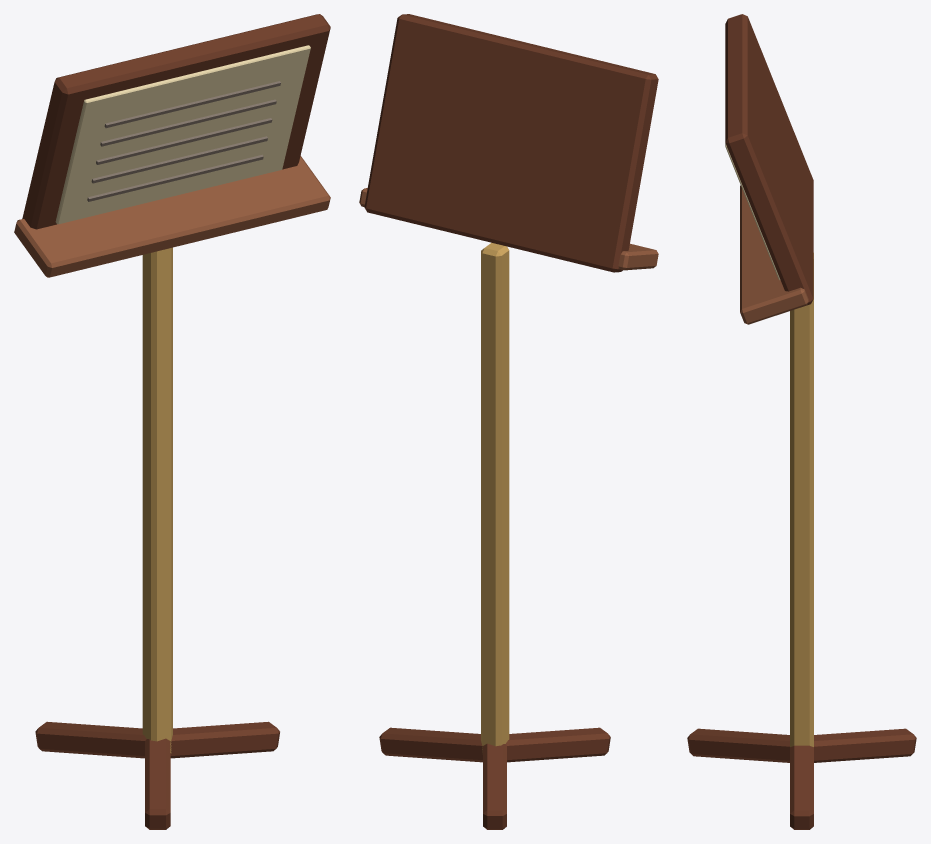
File: music_stand.glb
3 views of the same model, side by side, from view 1: azimuth 30°, elevation 25°; view 2: azimuth 150°, elevation 25°; view 3: azimuth 270°, elevation 25° (orthographic). The views are drawn at different scales.
Visible parts, largest first — view 1: Score, Rest, Stem, Back, Foot_001, Foot, Foot_002, Staff_003, Staff_004, Staff, Staff_001, Staff_002; view 2: Back, Stem, Foot_002, Foot, Foot_001, Rest; view 3: Back, Stem, Rest, Foot_002, Foot_001, Foot.
Boxes of the visible parts, left/top/right/bottom form: Score: left=55, top=45, right=310, bottom=224; Rest: left=14, top=156, right=330, bottom=277; Stem: left=142, top=247, right=172, bottom=753; Back: left=22, top=14, right=330, bottom=229; Foot_001: left=35, top=721, right=146, bottom=758; Foot: left=170, top=721, right=279, bottom=758; Foot_002: left=145, top=738, right=170, bottom=829; Staff_003: left=100, top=99, right=276, bottom=146; Staff_004: left=104, top=81, right=280, bottom=128; Staff: left=87, top=154, right=263, bottom=201; Staff_001: left=91, top=136, right=267, bottom=183; Staff_002: left=96, top=118, right=272, bottom=164; Back: left=364, top=14, right=658, bottom=272; Stem: left=481, top=242, right=509, bottom=752; Foot_002: left=506, top=727, right=610, bottom=762; Foot: left=379, top=727, right=482, bottom=762; Foot_001: left=483, top=743, right=506, bottom=829; Rest: left=359, top=188, right=658, bottom=270; Back: left=725, top=14, right=813, bottom=305; Stem: left=790, top=253, right=813, bottom=746; Rest: left=740, top=185, right=808, bottom=324; Foot_002: left=687, top=728, right=789, bottom=762; Foot_001: left=814, top=728, right=916, bottom=762; Foot: left=790, top=745, right=813, bottom=829.
Bounding box in the file's own units: 0.58 × 1.47 × 0.4344.
